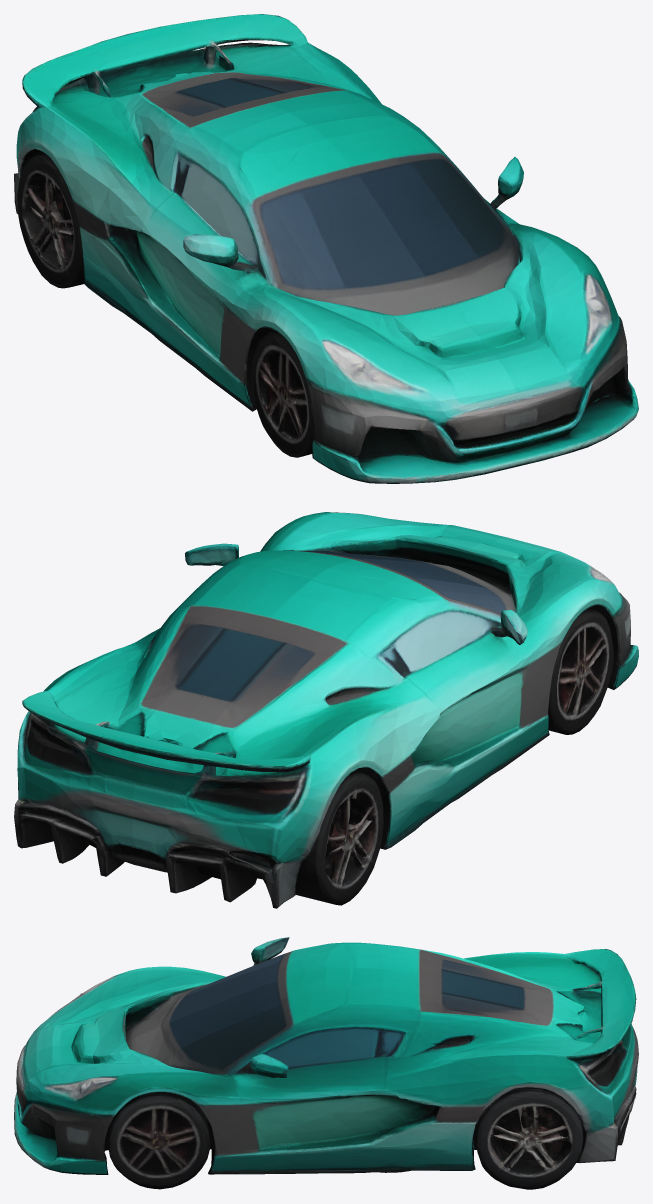
File: sample (4).glb
3 renders of one model, top to bottom at view 1: azimuth 30°, elevation 25°; view 2: azimuth 150°, elevation 25°; view 3: azimuth 270°, elevation 25°, orthographic. The views are drawn at different scales.
Visible parts, largest first — view 1: world; view 2: world; view 3: world.
Boxes of the visible parts, x1,y1,x2,y2 form: world: (14, 14, 638, 483); world: (14, 512, 638, 908); world: (14, 937, 638, 1189).
Size of the model in its own units: 0.4959 by 0.2882 by 0.9995.
1 material, 1 textured.
